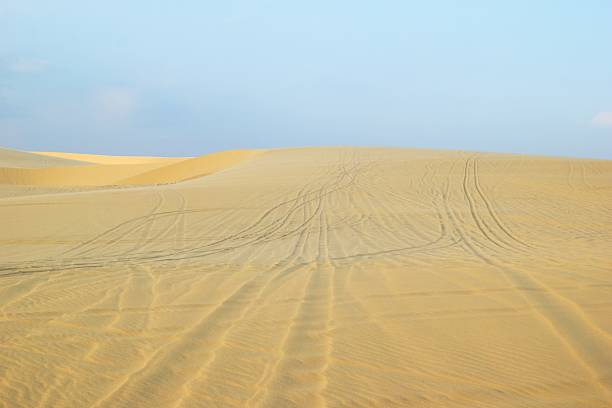vehicle_track: (0, 167, 352, 276), (449, 208, 611, 395), (60, 190, 164, 257), (472, 158, 530, 247)
